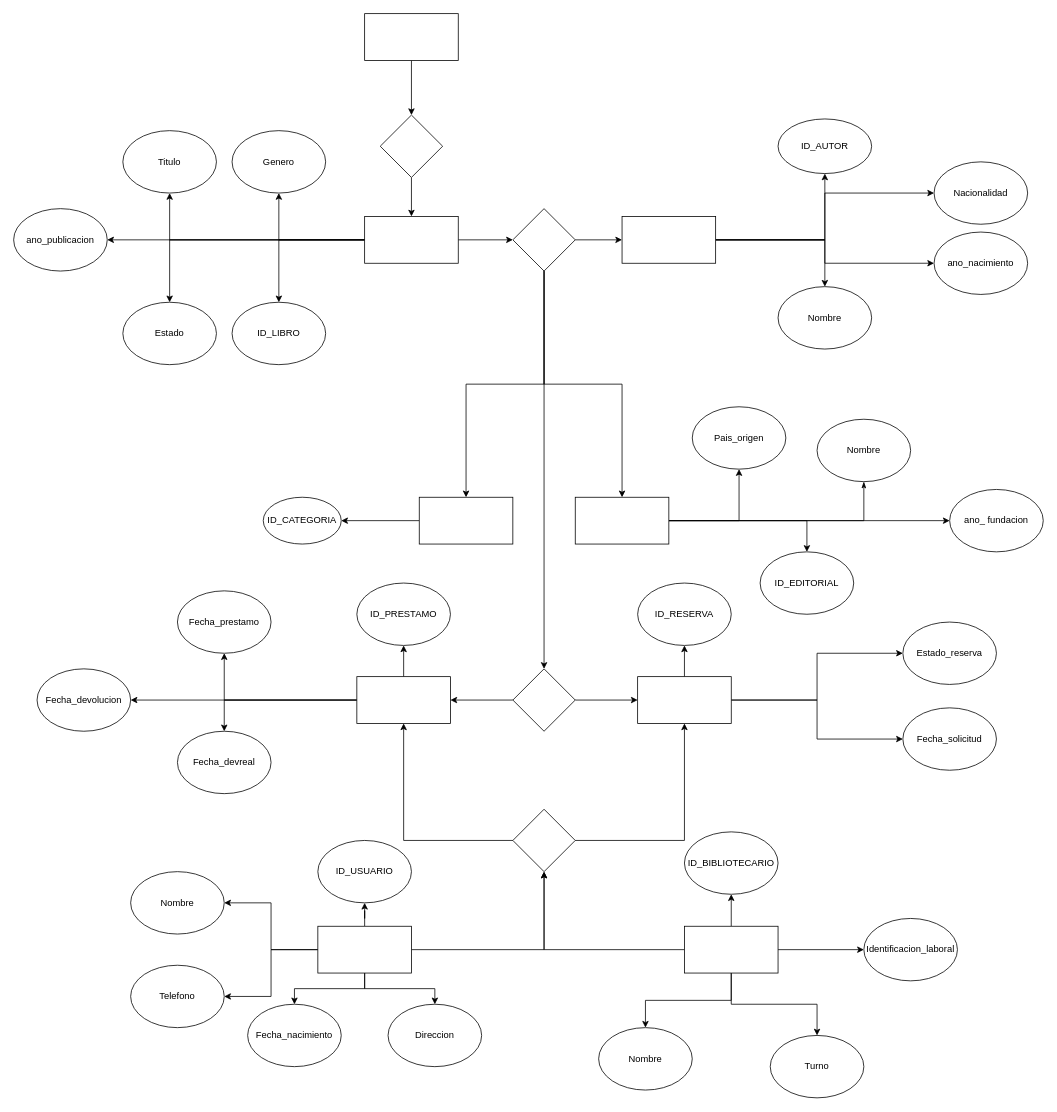
Some shapes in this 1057 by 1112 pixel diagram are drawn without their labels. The shapes that lost their labels are listed below. From the top down, each one's centre as x and y in pixels, then its label:
point 411,36: BIBLIOTECA
point 411,239: LIBROS
point 668,239: AUTORES
point 465,520: CATEGORIAS
point 621,520: EDITORIALES
point 403,699: PRESTAMOS
point 684,699: RESERVAS
point 364,949: USUARIOS
point 731,949: BIBLIOTECARIOS
